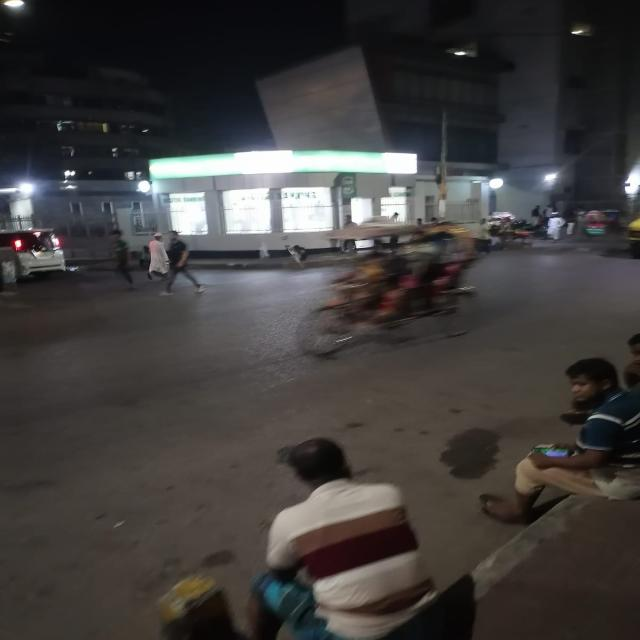person: (161, 230, 204, 296)
